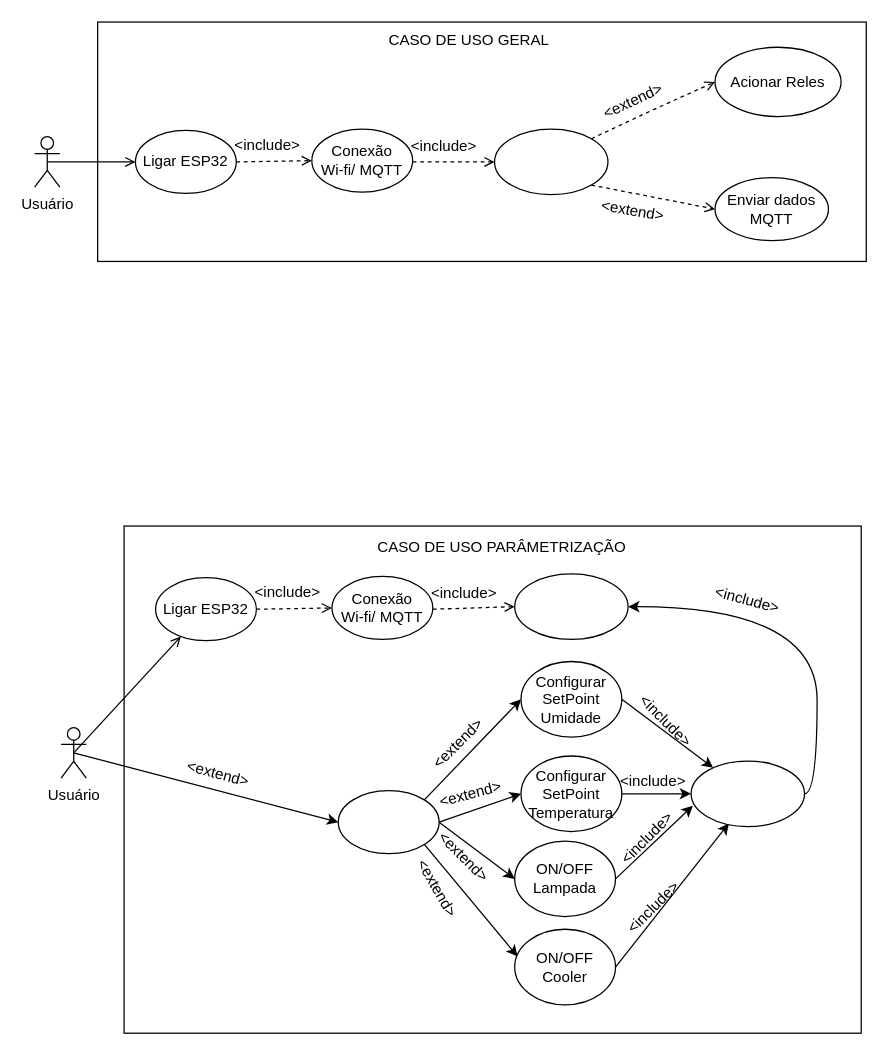
This 888x1056 diagram has some shape labels left out. Here are the shapes that lost their labels. From the top down, the centre of each, then its label:
(x=550, y=161): Monitorar Sensores
(x=570, y=606): ESP32 em funcionamento
(x=747, y=793): MQTT Callback
(x=388, y=821): App MQTT
